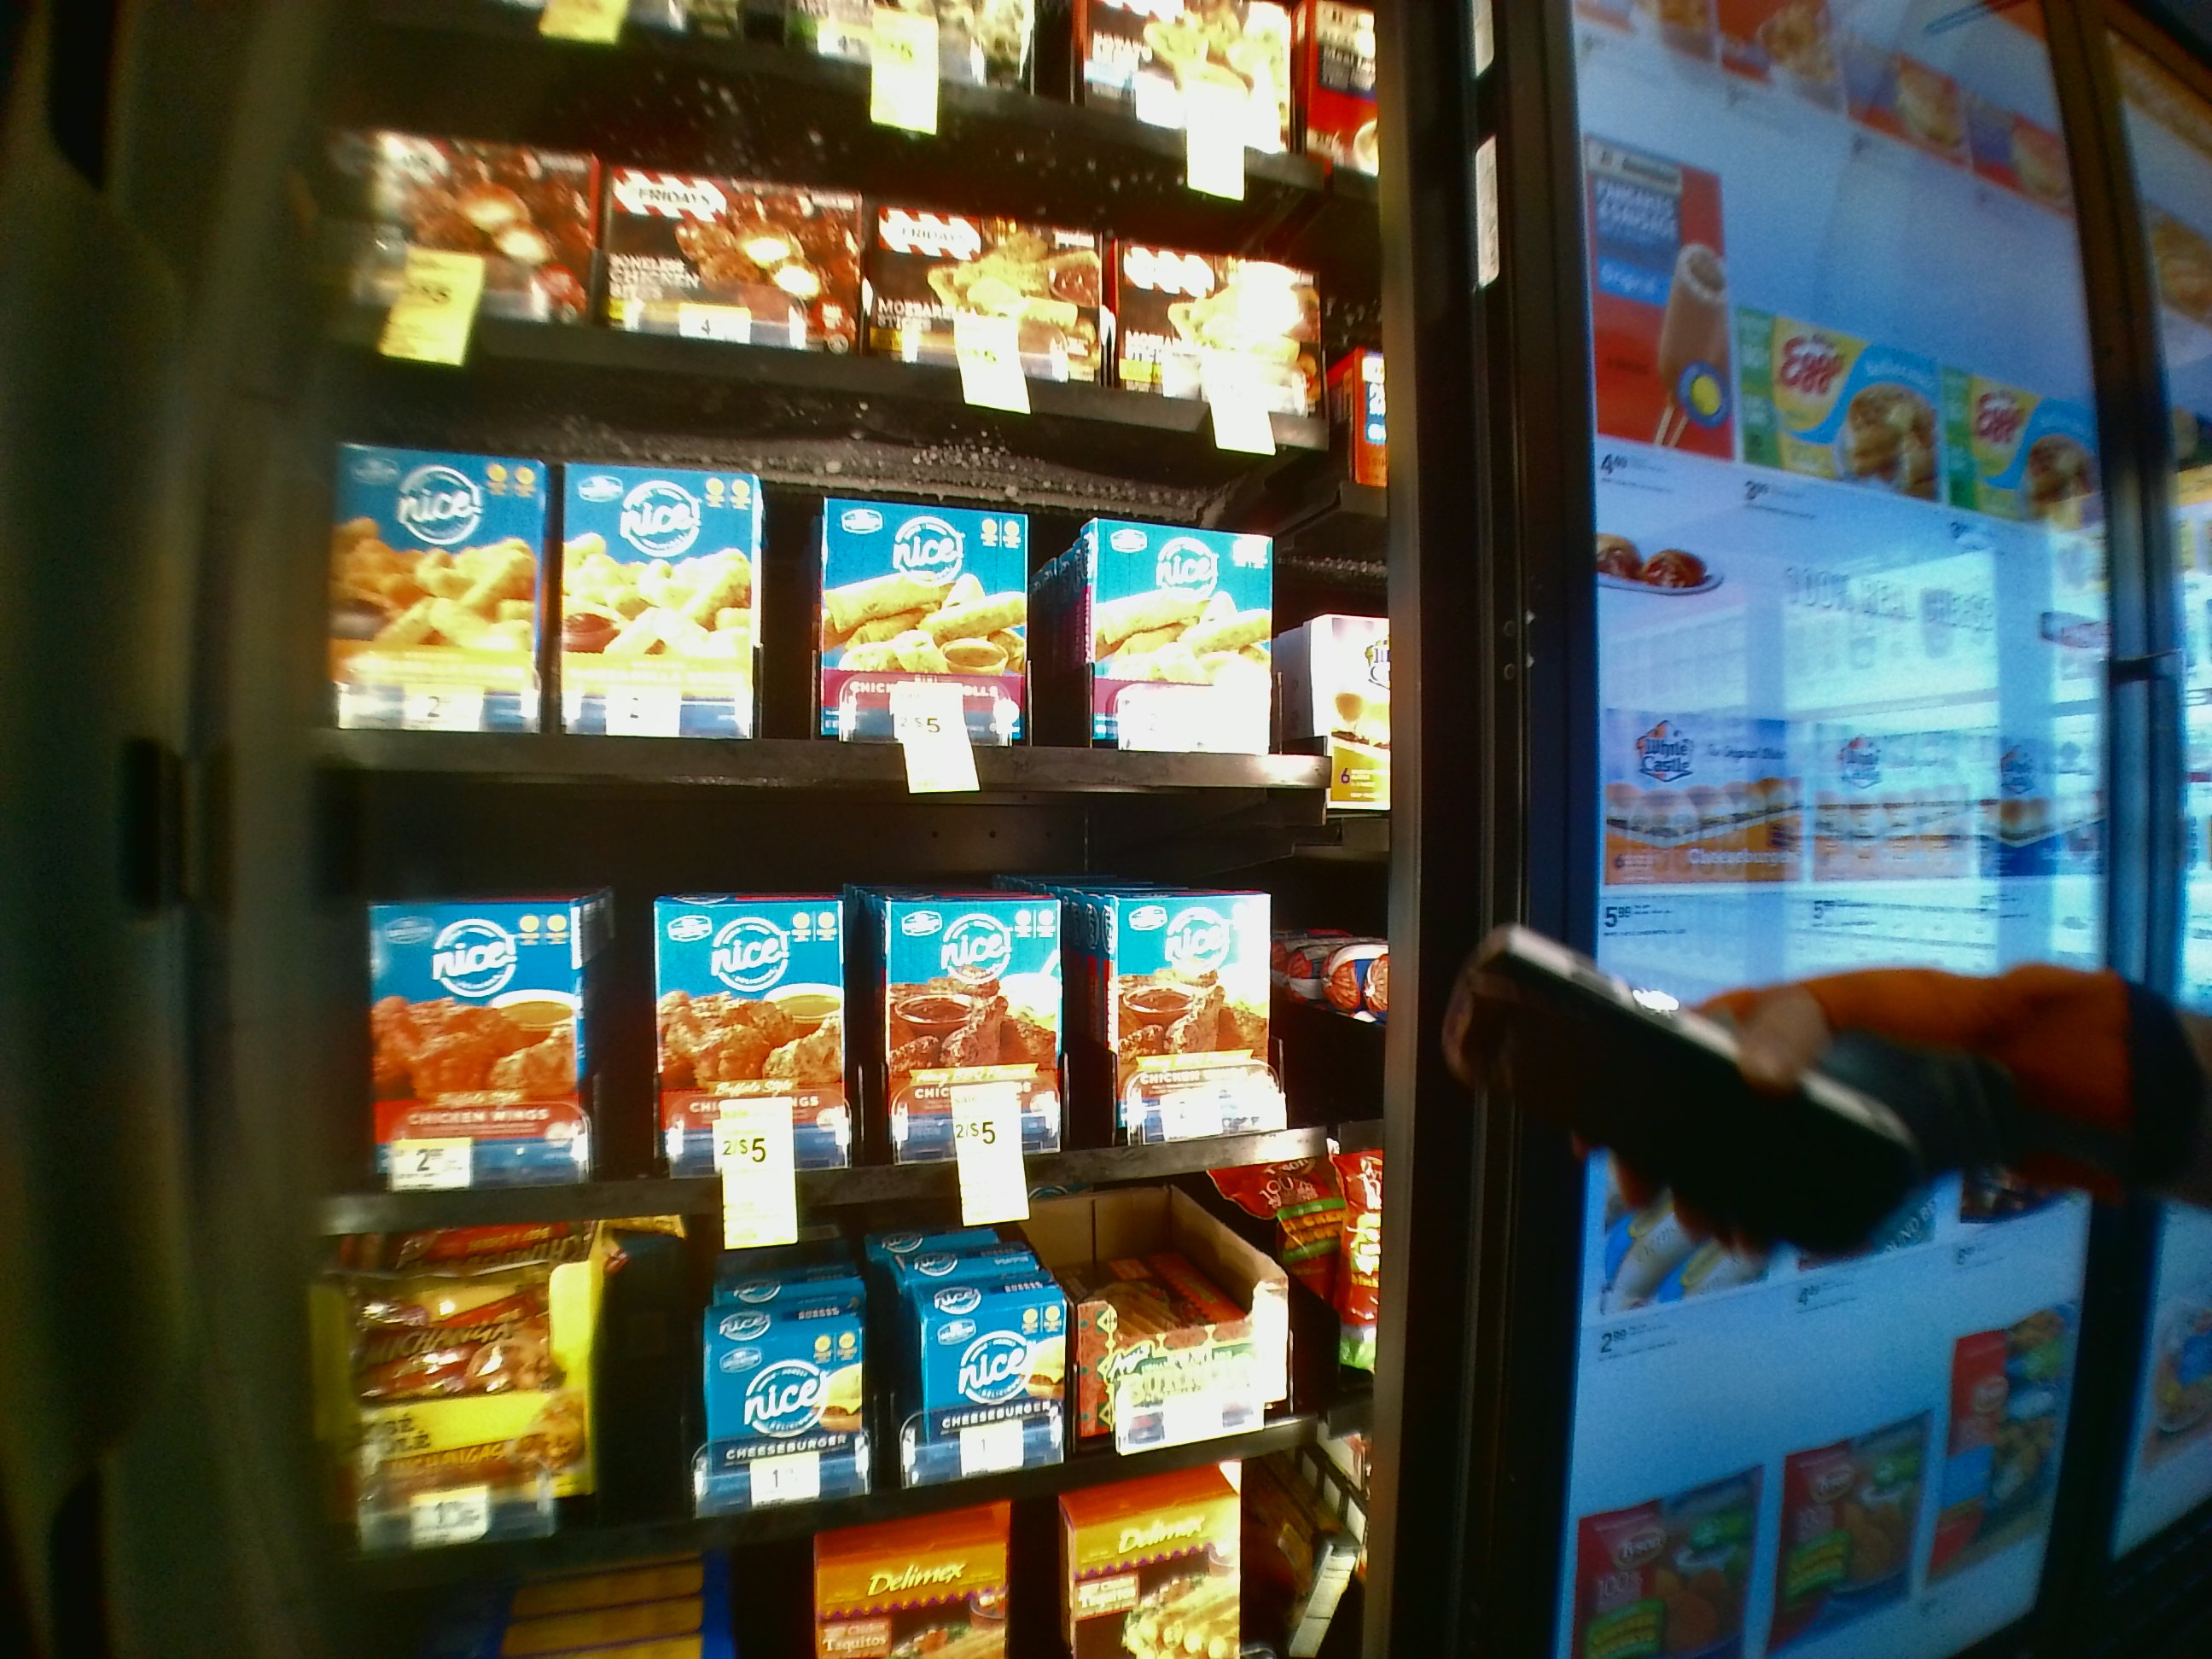shelf: (301, 352, 1379, 793), (298, 807, 1379, 1236)
